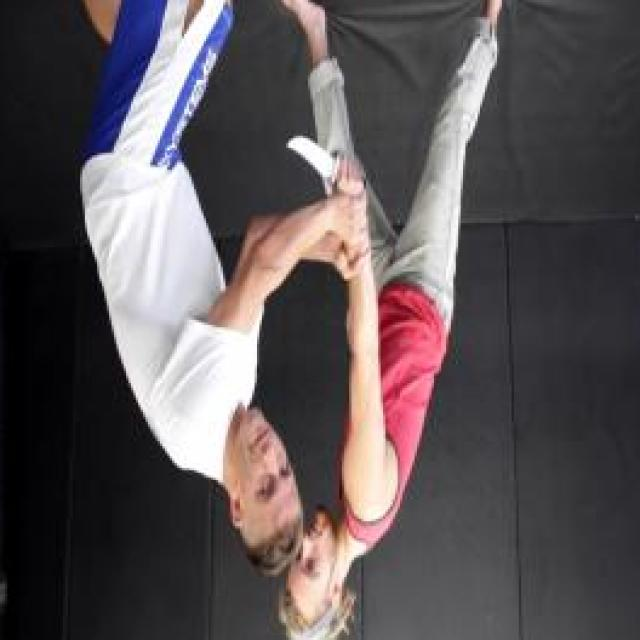knife: (282, 127, 371, 194)
